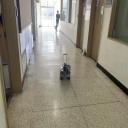cart: (60, 65, 71, 80)
